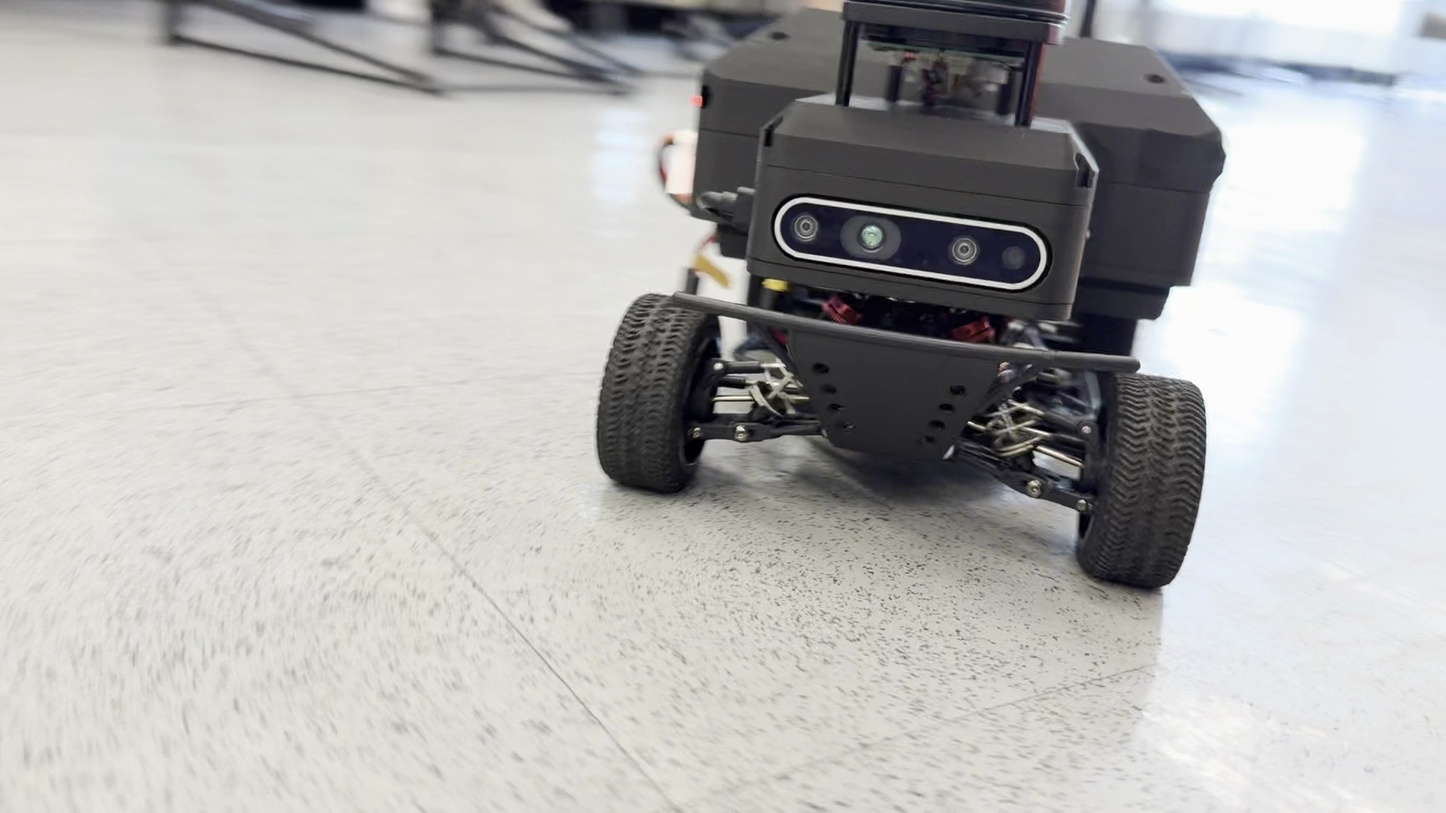racecar: (589, 0, 1232, 592)
